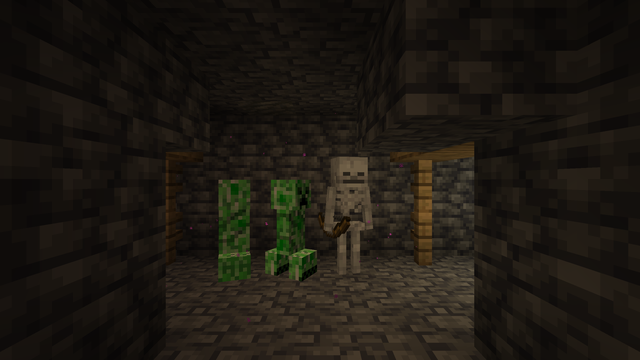creepers: (209, 175, 254, 279), (271, 175, 309, 279)
squelettes: (330, 157, 368, 278)
